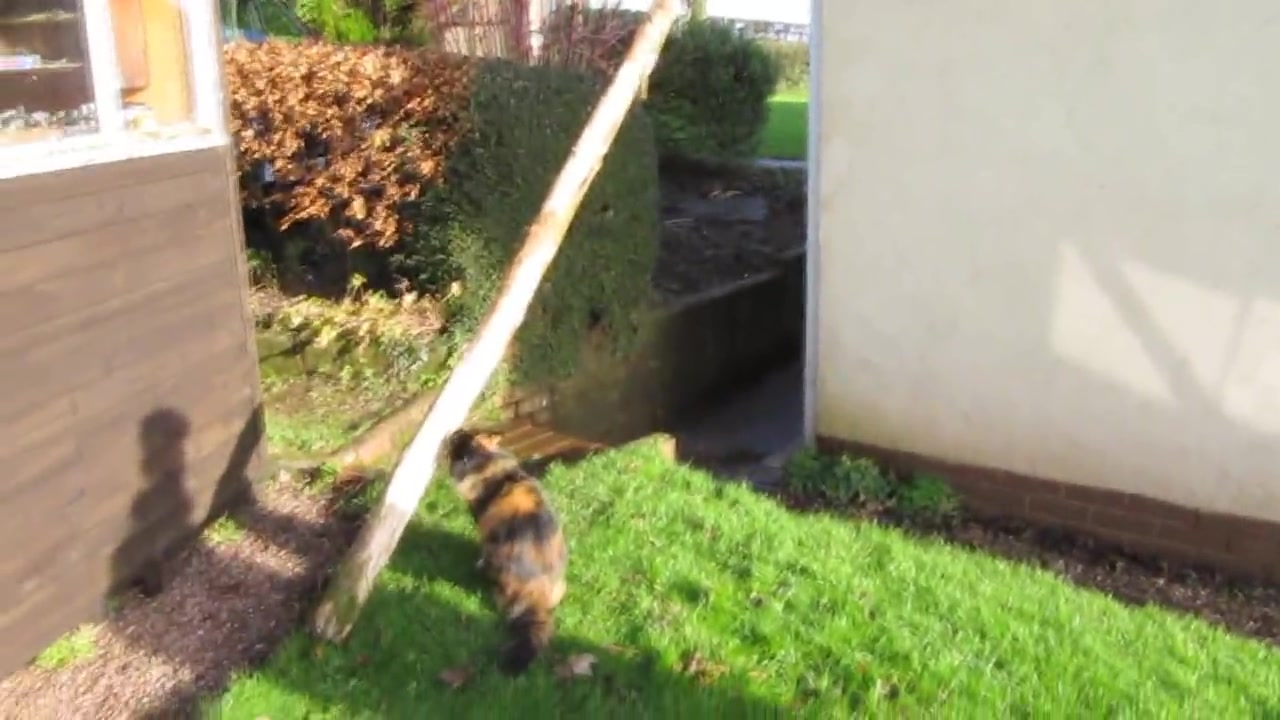cat: (444, 429, 570, 682)
